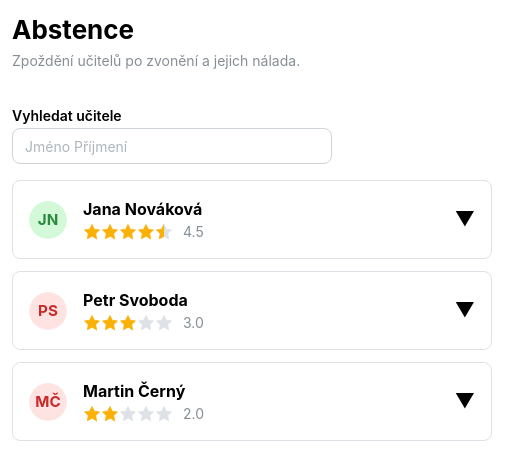
AbstencePage oproti návrhu › vyhledávání filtruje seznam podle jména (filtr řeší frontend)
Type "Svoboda" into the field labelled "Vyhledat učitele".
click(172, 146); type("Svoboda")  # box [12,128,332,164]
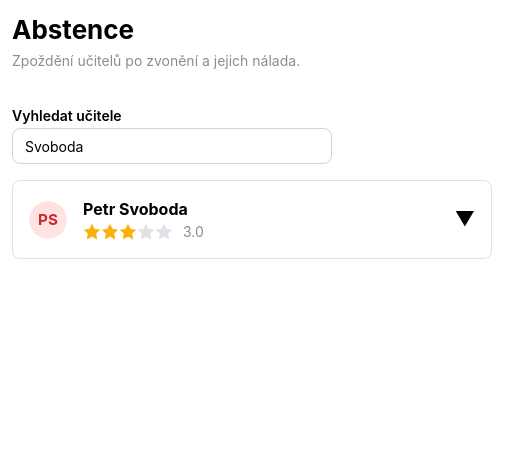
expect the text "Petr Svoboda" is shown: met, box [83,197,188,222]
expect the button "Jana Nováková" is gone: met
expect the button "Martin Černý" is gone: met
